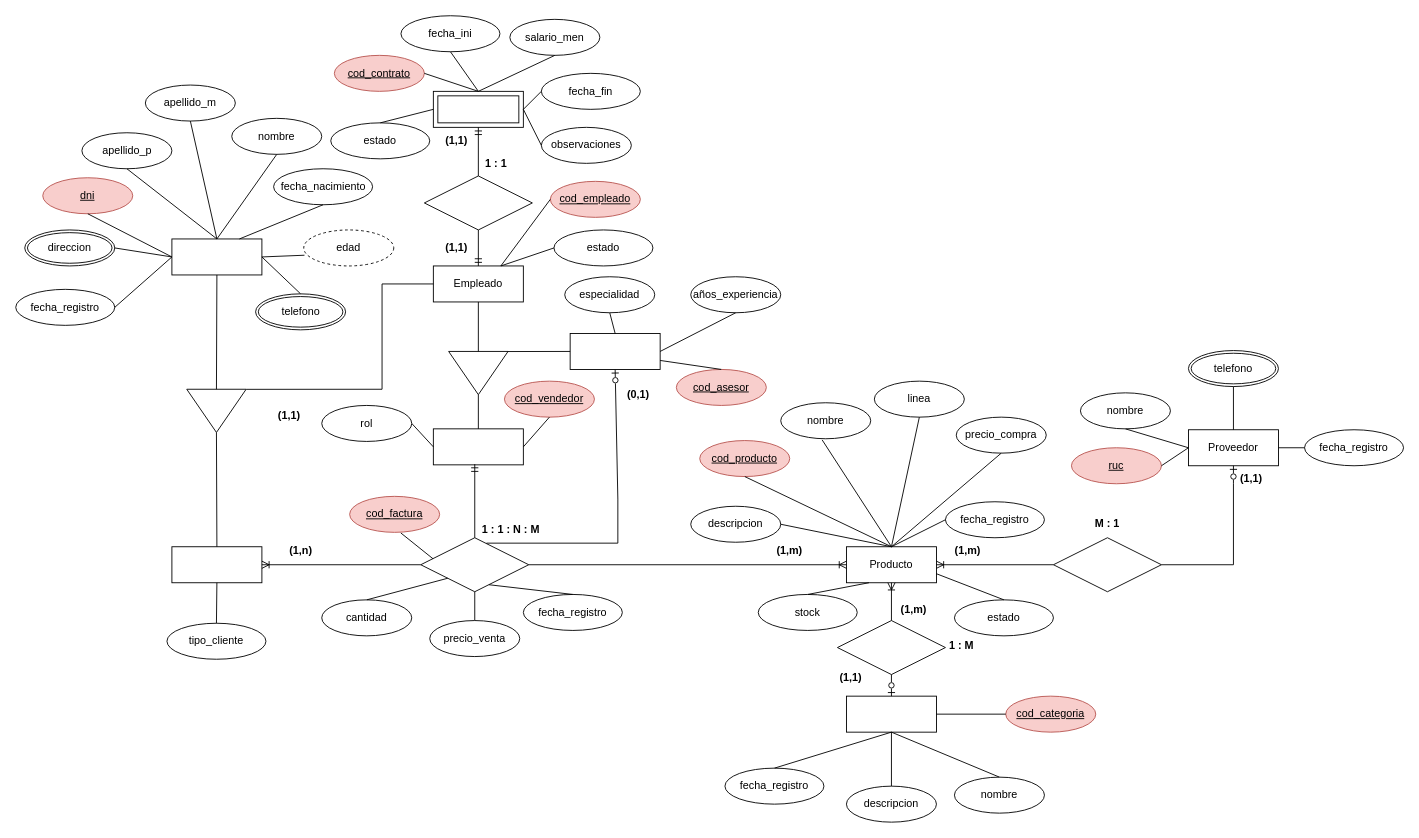
Image size: 1419x838. Some labels were removed from this diagram. The shapes that lost their labels are listed below. From the top down, each one's centre as x and y in pixels, then its label:
point (477, 108): Contrato
point (477, 202): Posee
point (216, 256): Persona
point (614, 351): Asesor
point (477, 446): Vendedor
point (216, 564): Cliente
point (474, 564): Solicita
point (1107, 564): Suministra
point (891, 647): Pertenece
point (891, 713): Categoria
